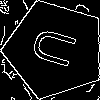U: (30, 25, 87, 73)
